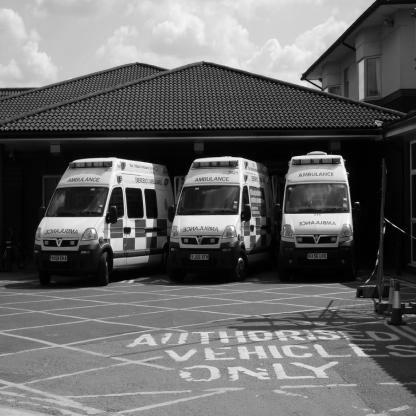ambulance: (23, 141, 175, 282), (163, 150, 267, 274), (277, 153, 359, 274)
